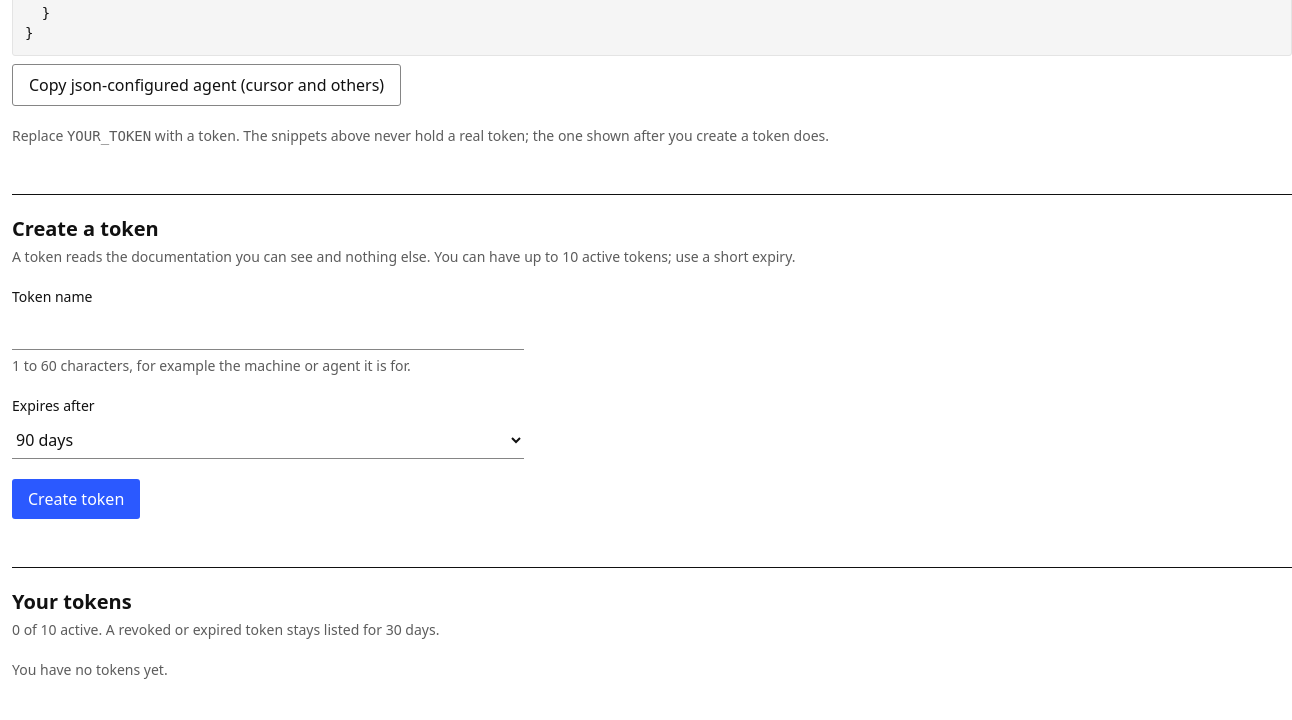
Test: AgentAccess: creating a token › names the problem when the server refuses the input, and shows no token
The image size is (1292, 720).
(page scrolled)
Step 1. Click the button "Create token" → x=76, y=499, box [12, 479, 140, 519]
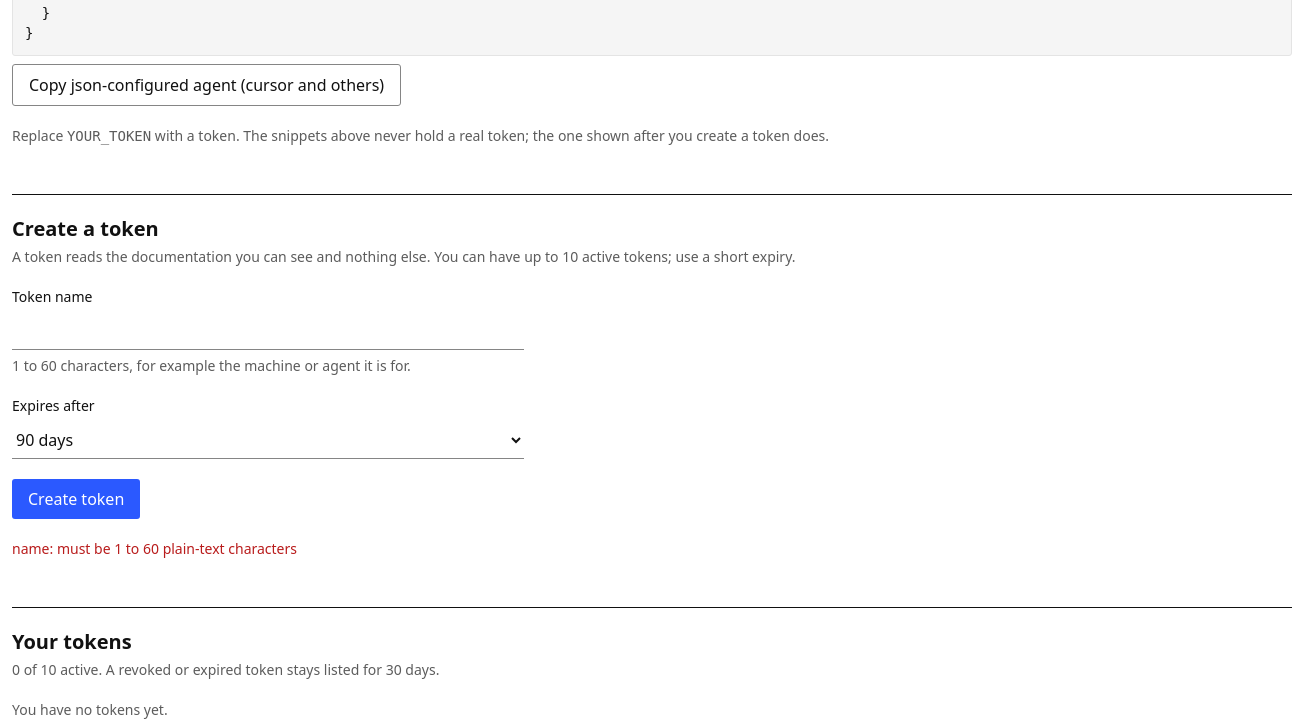
Expected: the message with test id "agent-access-error" reads "name: must be 1 to 60 plain-text characters", [12, 539, 297, 558]
